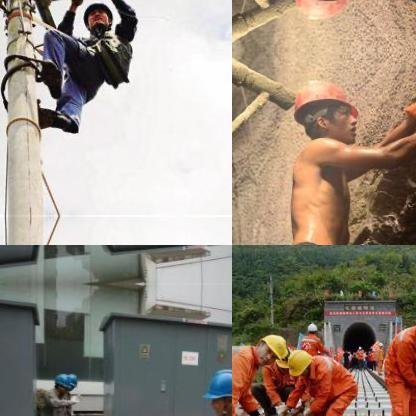Helmet: (288, 72, 364, 145), (287, 0, 366, 26), (199, 364, 231, 415), (253, 329, 289, 367), (80, 0, 114, 37), (283, 347, 313, 377), (52, 368, 70, 393), (67, 372, 79, 390), (303, 321, 317, 333)
